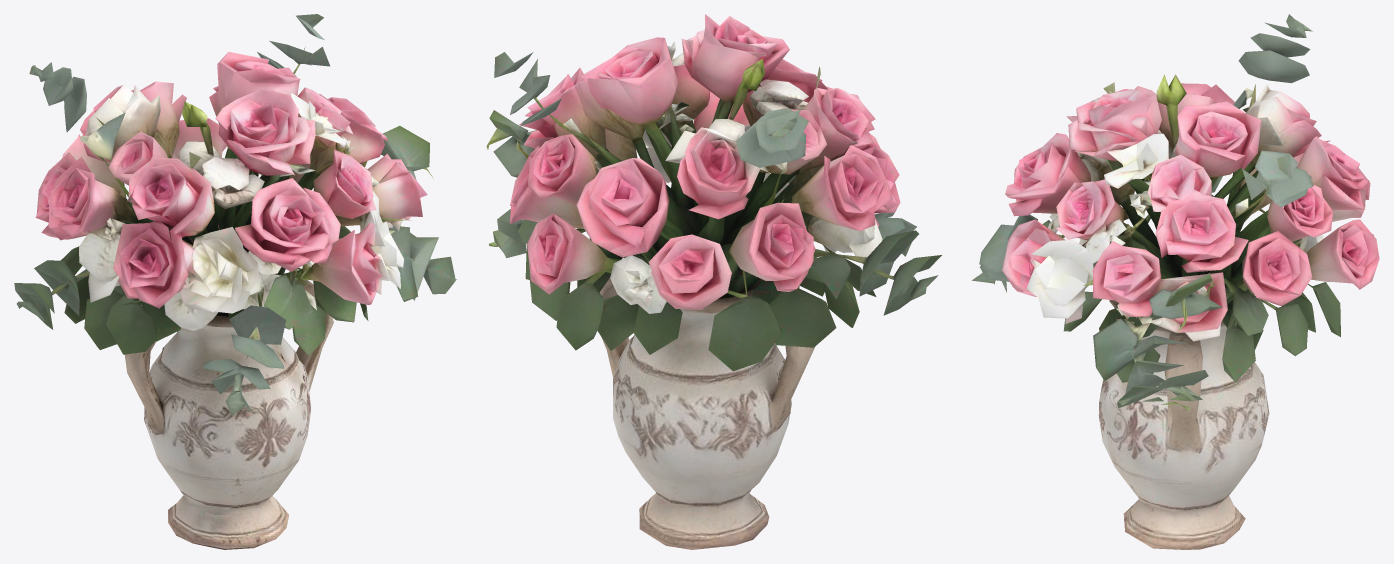
The model's file is wazon.glb.
The picture shows the model from 3 angles, left to right: view 1: azimuth 30°, elevation 25°; view 2: azimuth 150°, elevation 25°; view 3: azimuth 270°, elevation 25°; orthographic projection. The views are drawn at different scales.
Parts seen in each view (by area): view 1: model; view 2: model; view 3: model.
Boxes of the visible parts, x1=… form: model: x1=14, y1=14, x2=456, y2=549; model: x1=486, y1=14, x2=941, y2=549; model: x1=972, y1=14, x2=1379, y2=549.
Size of the model in its own units: 1.8 by 1.89 by 1.57.
Materials: 1 (1 with a texture image).
